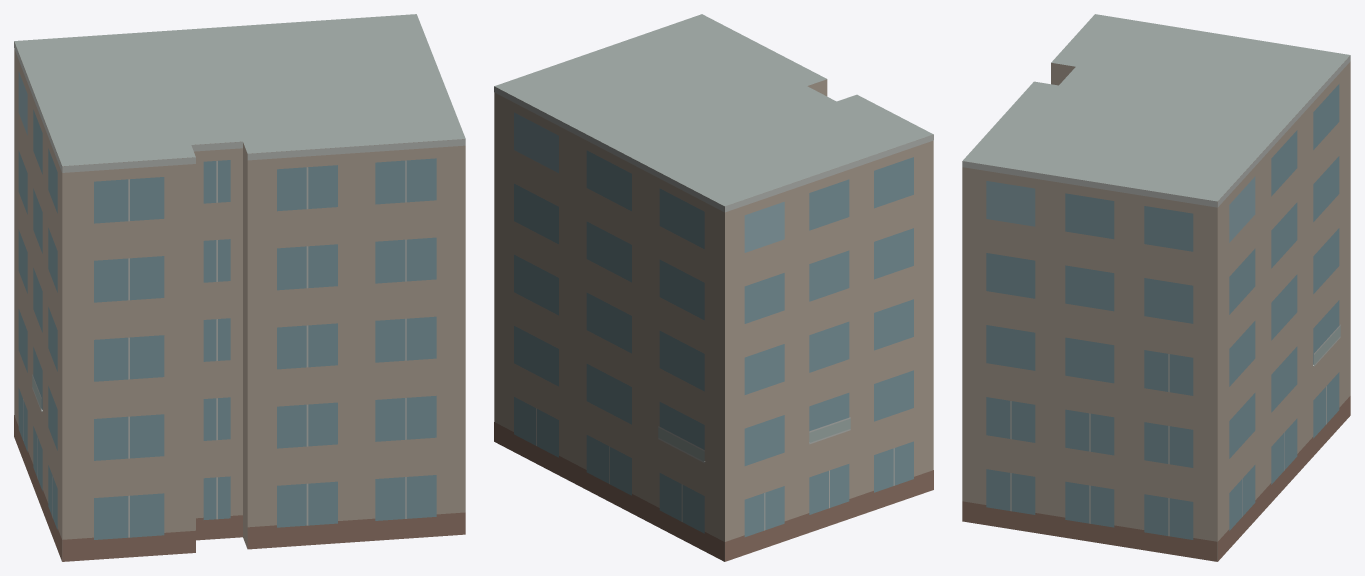
Rendered from survey-upis-32887627.glb.
The picture shows the model from 3 angles, left to right: view 1: azimuth 30°, elevation 25°; view 2: azimuth 150°, elevation 25°; view 3: azimuth 270°, elevation 25°; orthographic projection. The views are drawn at different scales.
Visible parts, largest first — view 1: survey-upis-32887627.tmp; view 2: survey-upis-32887627.tmp; view 3: survey-upis-32887627.tmp.
Part boxes in pixels (<box>): survey-upis-32887627.tmp: <box>14,14,465,561</box>; survey-upis-32887627.tmp: <box>494,14,933,561</box>; survey-upis-32887627.tmp: <box>962,14,1350,561</box>.
Bounding box in the file's own units: 15.97 × 14.3 × 13.97.
